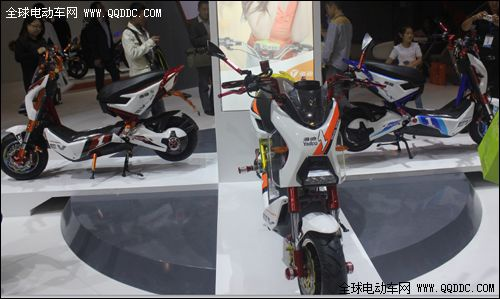non-vehicle: (228, 61, 375, 292), (0, 34, 204, 181), (338, 28, 491, 157)
